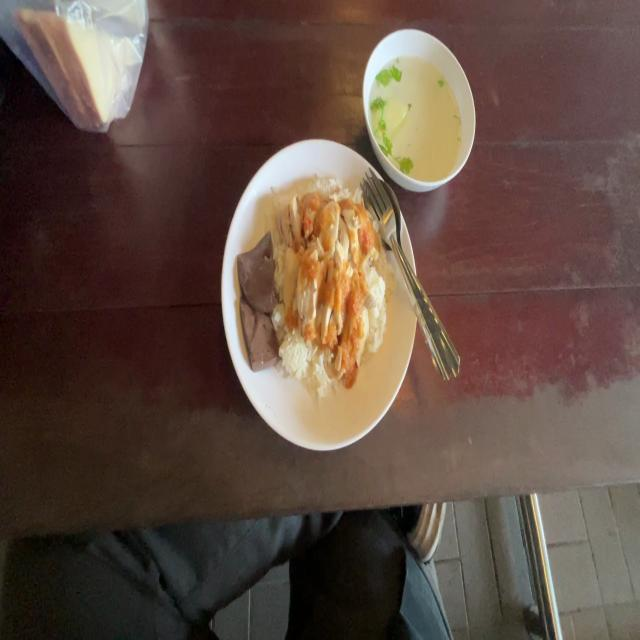boiled_chicken: (278, 190, 370, 356)
boiled_chicken_blood_jelly: (239, 233, 276, 367)
chicken_rice: (244, 176, 384, 410)
